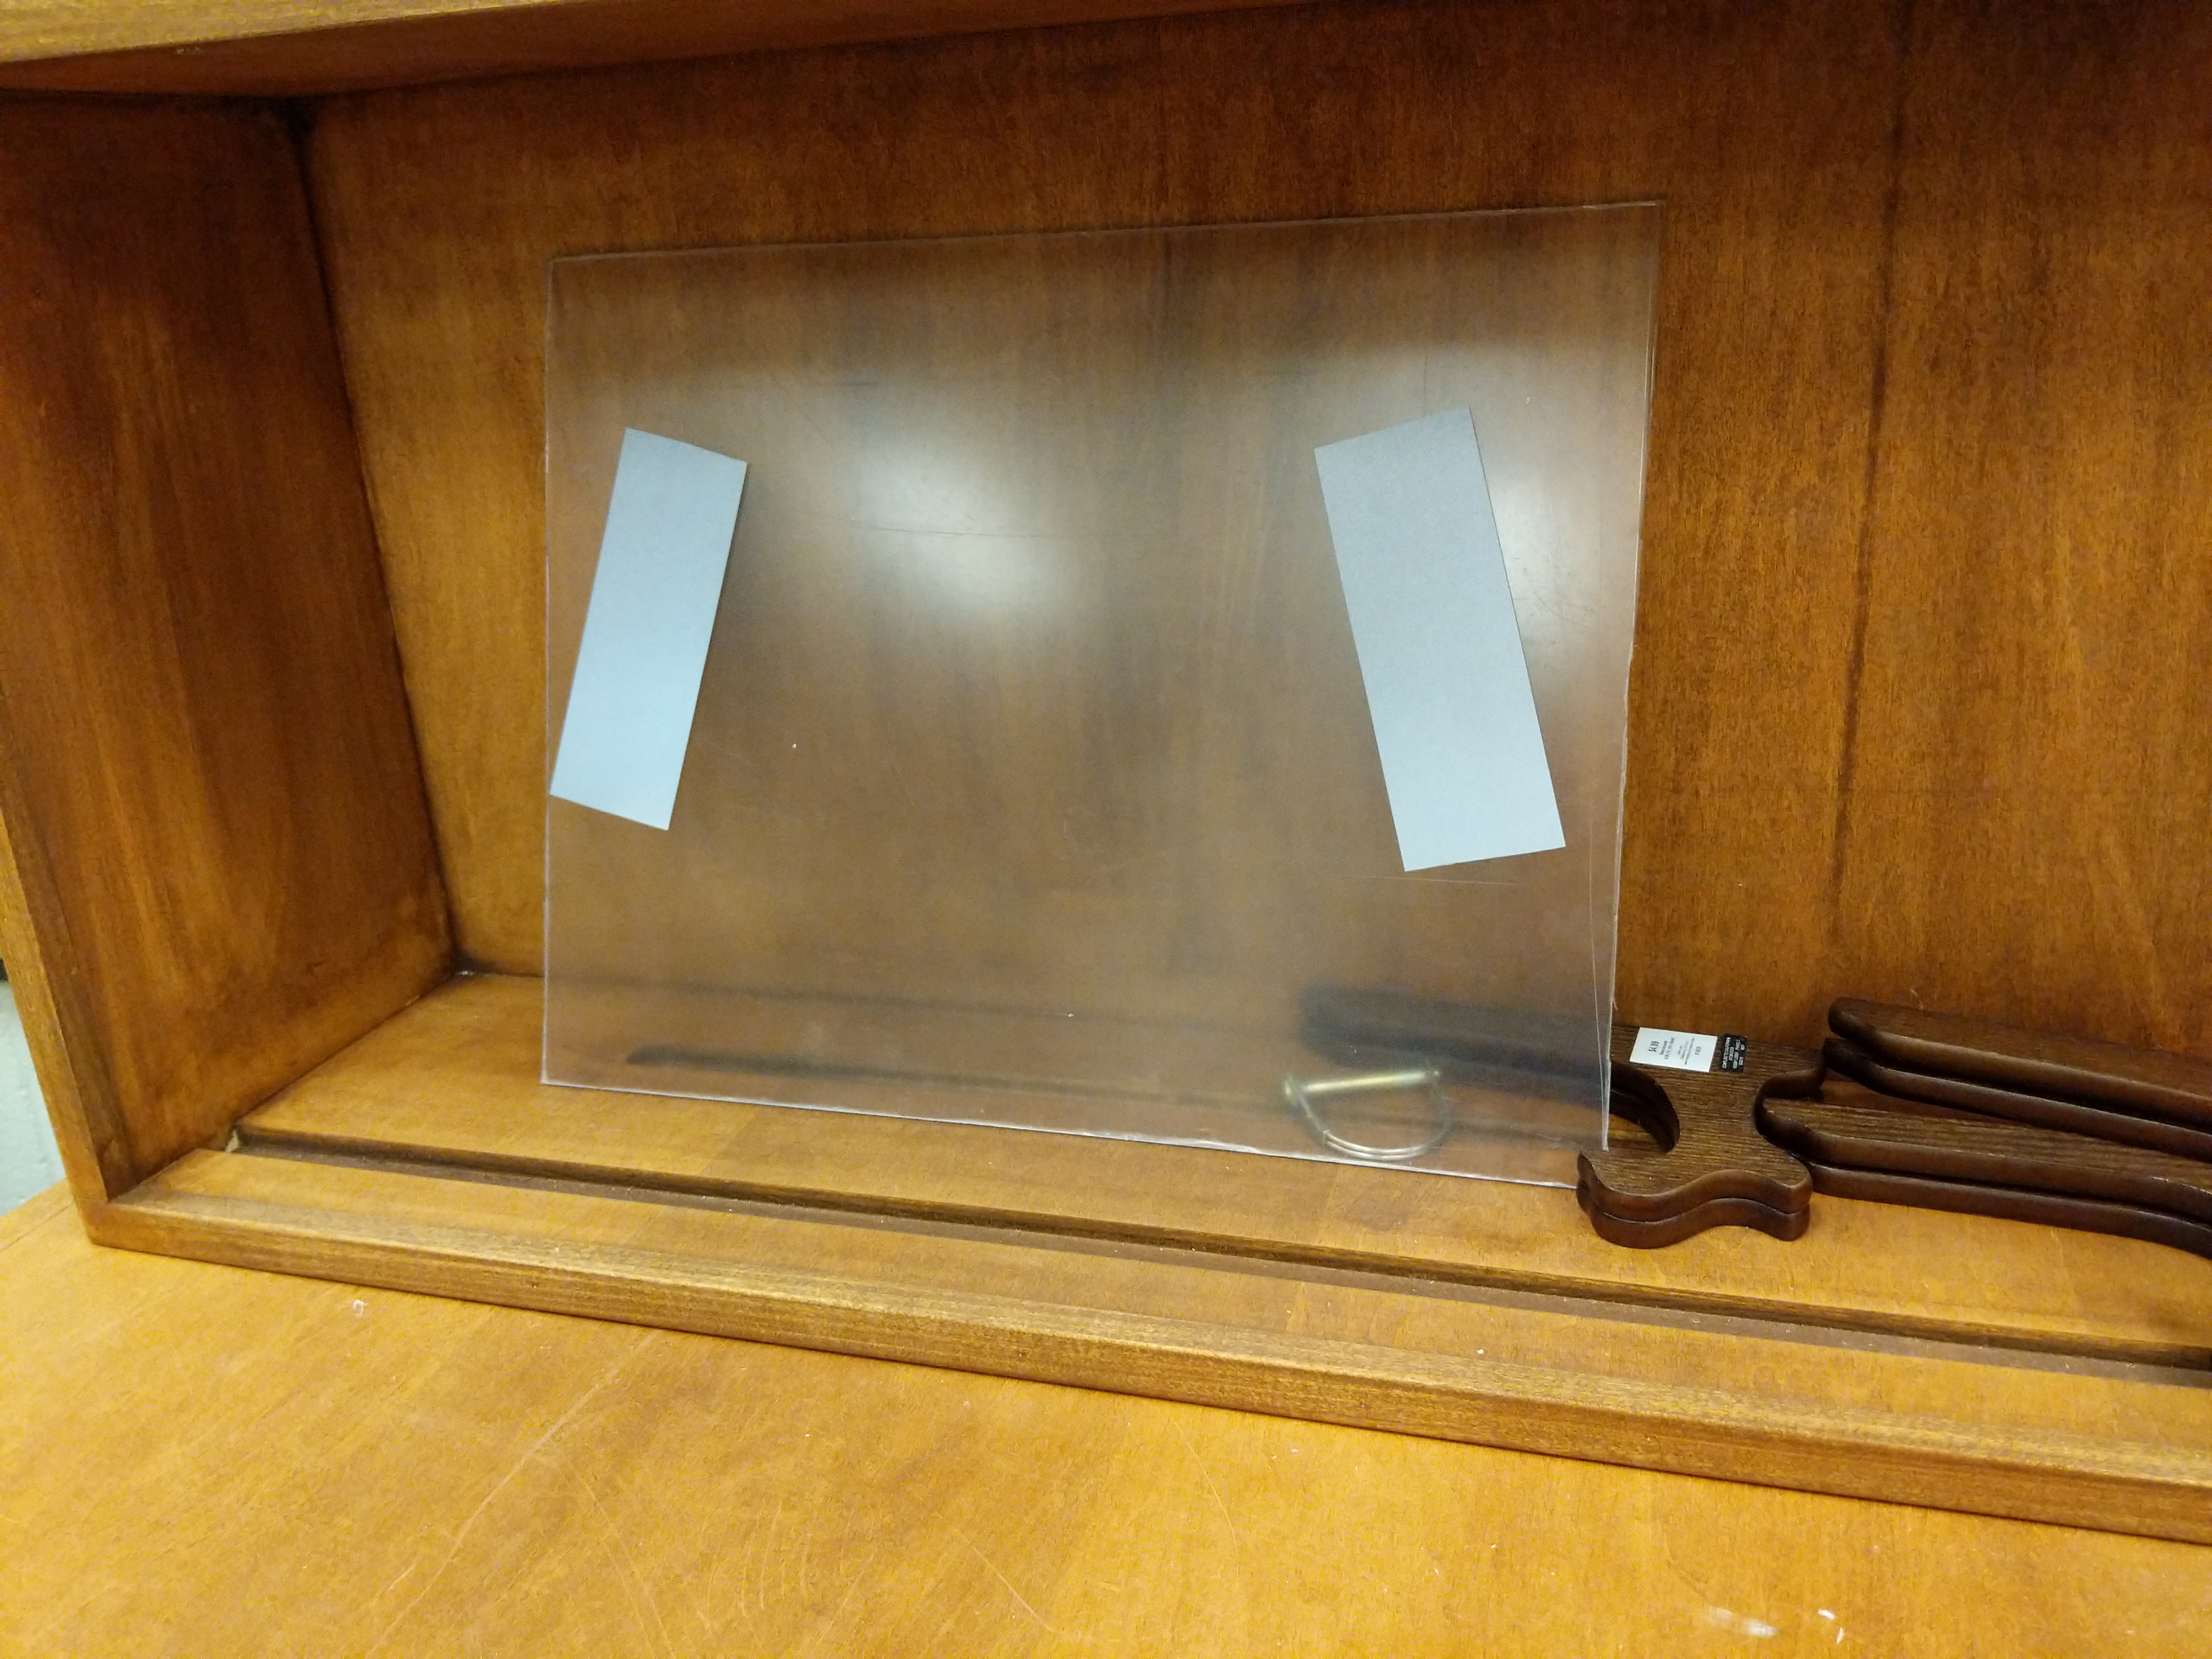vision_target: (533, 397, 1580, 875)
